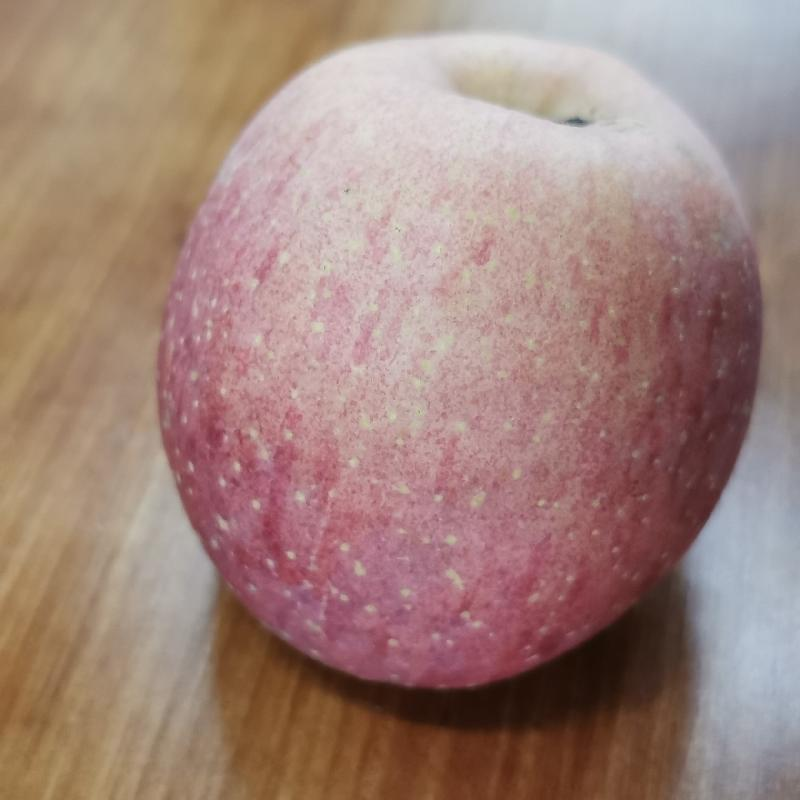apples: (123, 27, 769, 699)
